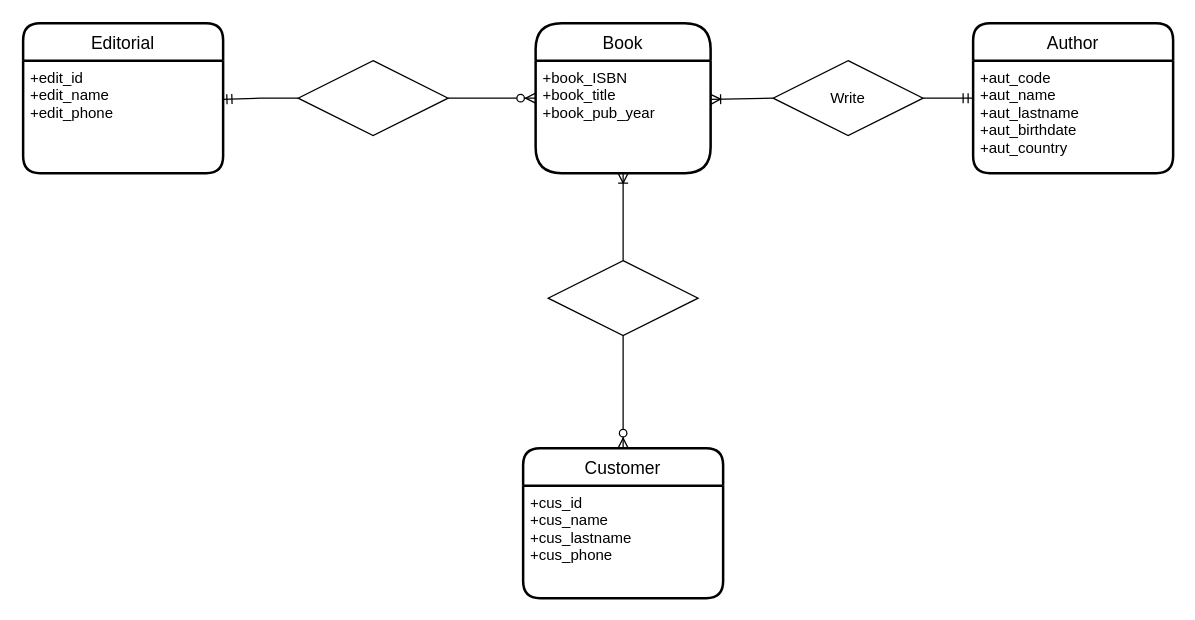
Image size: 1195x620. Some labels were removed from this diagram. The shapes that lost their labels are listed below. From the top down, each one's centre as x and y in pixels, then its label:
At (372,97): "Publish".
At (622,297): "Buy".
